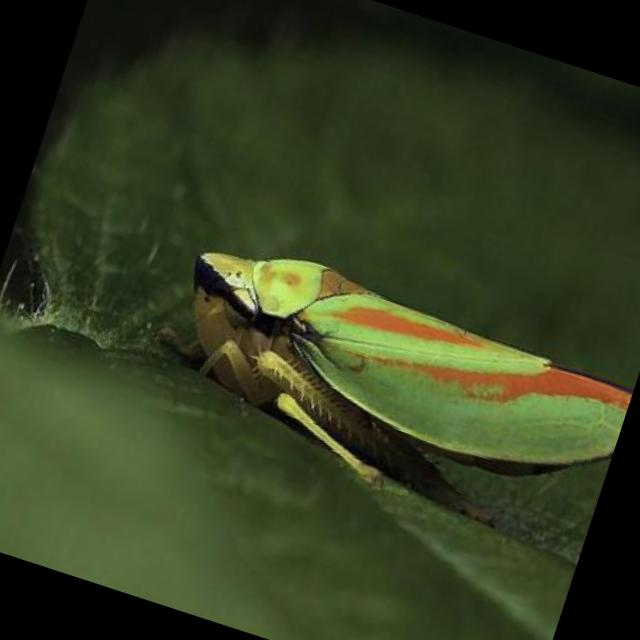green-leafhopper: (142, 209, 640, 552)
